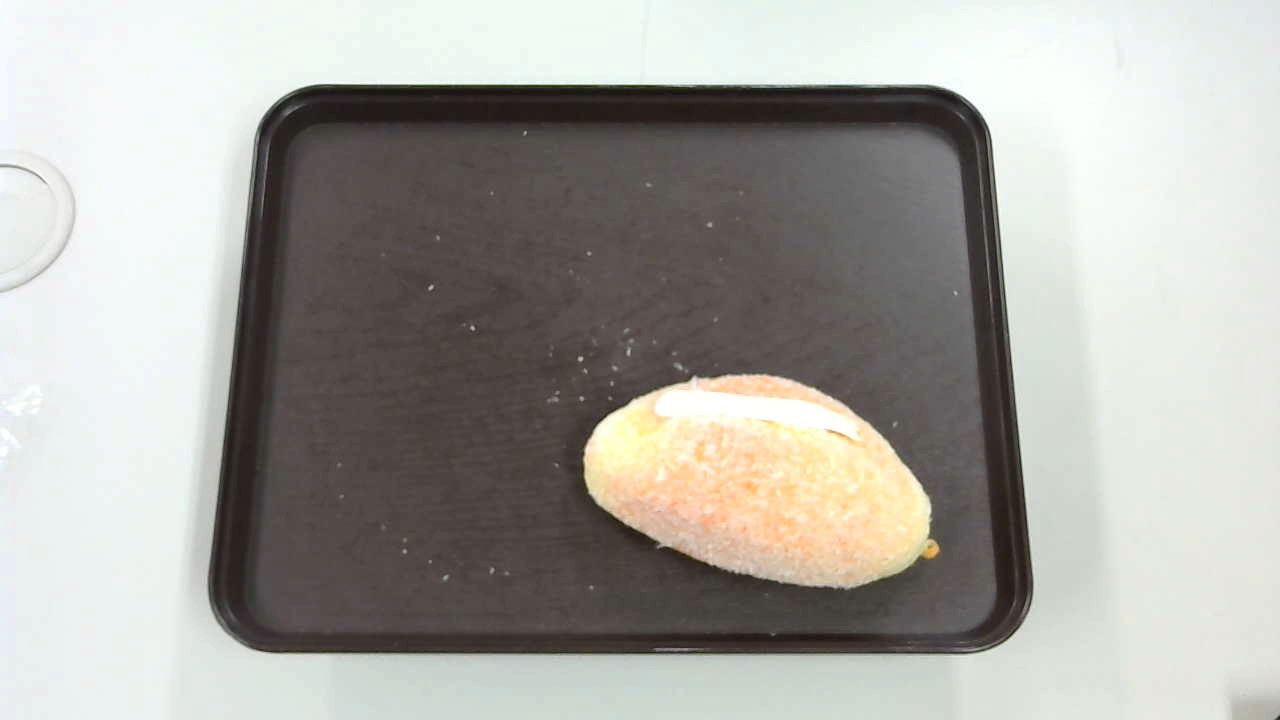coconut: (583, 374, 940, 593)
